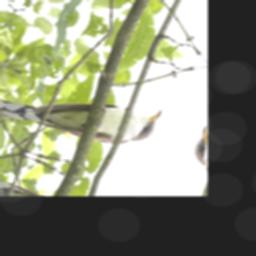Cuckoo: (0, 56, 164, 164)
